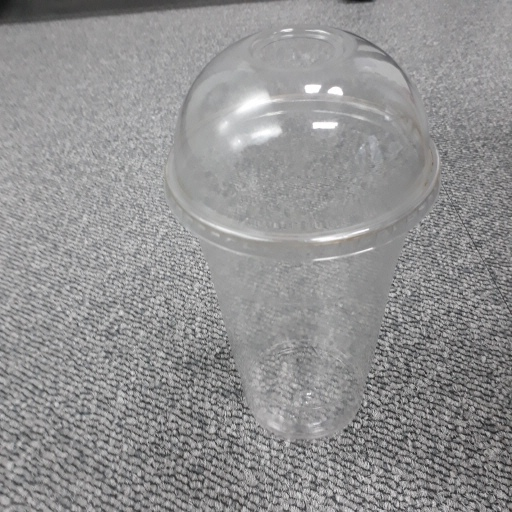Plastic_2: (158, 23, 444, 440)
